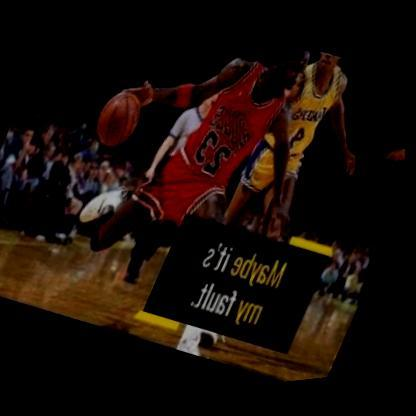basketball: (81, 79, 156, 164)
